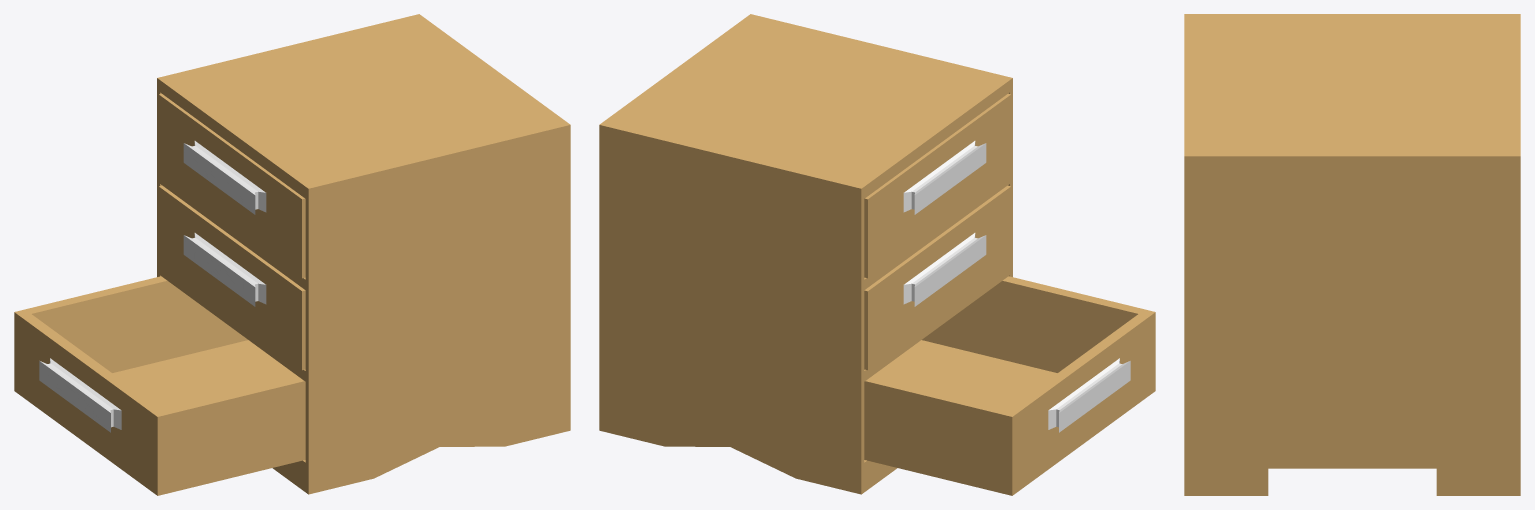
The model's file is mesa2.fbx.
3 views of the same model, side by side, from view 1: azimuth 30°, elevation 25°; view 2: azimuth 150°, elevation 25°; view 3: azimuth 270°, elevation 25° (orthographic). The views are drawn at different scales.
Parts seen in each view (by area): view 1: Cube; view 2: Cube; view 3: Cube.
Part boxes in pixels (box(x1,y1,x2,y2)): Cube: box(14, 14, 570, 495); Cube: box(599, 14, 1155, 495); Cube: box(1184, 14, 1520, 495).
Size of the model in its own units: 320 by 223 by 200.
